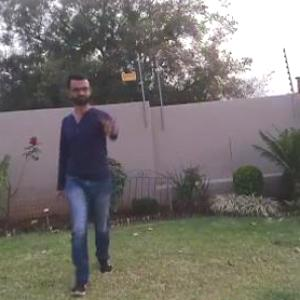takeoff-hand: (99, 110, 122, 145)
